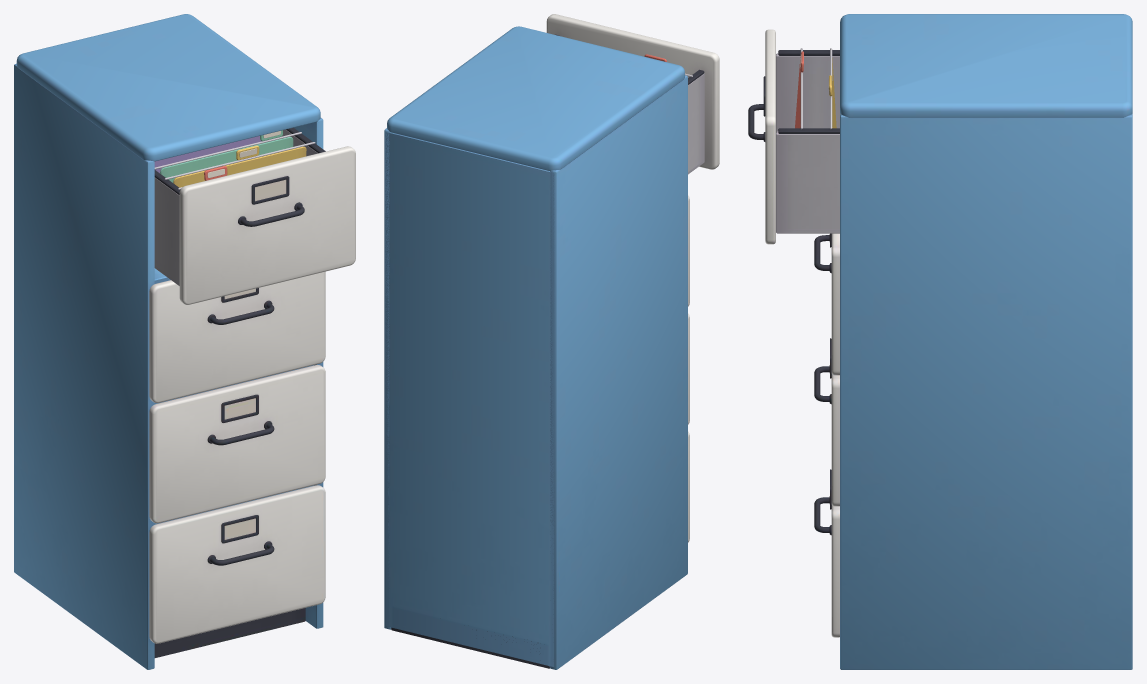
The model's file is filing-cabinet.glb.
The picture shows the model from 3 angles, left to right: view 1: azimuth 30°, elevation 25°; view 2: azimuth 150°, elevation 25°; view 3: azimuth 270°, elevation 25°; orthographic projection. The views are drawn at different scales.
Visible parts, largest first — view 1: filing-cabinet_body, filing-cabinet_drawertop; view 2: filing-cabinet_body, filing-cabinet_drawertop; view 3: filing-cabinet_body, filing-cabinet_drawertop.
Boxes of the visible parts, <box> form: filing-cabinet_body: <box>14,14,325,669</box>; filing-cabinet_drawertop: <box>154,127,355,304</box>; filing-cabinet_body: <box>384,26,689,669</box>; filing-cabinet_drawertop: <box>546,14,719,174</box>; filing-cabinet_body: <box>814,14,1132,669</box>; filing-cabinet_drawertop: <box>748,29,840,244</box>.
Bounding box in the file's own units: 0.47 × 1.32 × 0.8145.
Materials: 2 (2 with a texture image).
